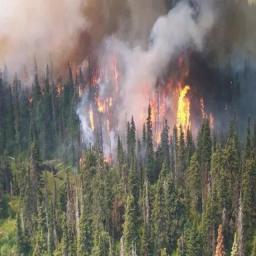Heavy smoke: (0, 0, 255, 161)
Small fire: (6, 48, 255, 168)
